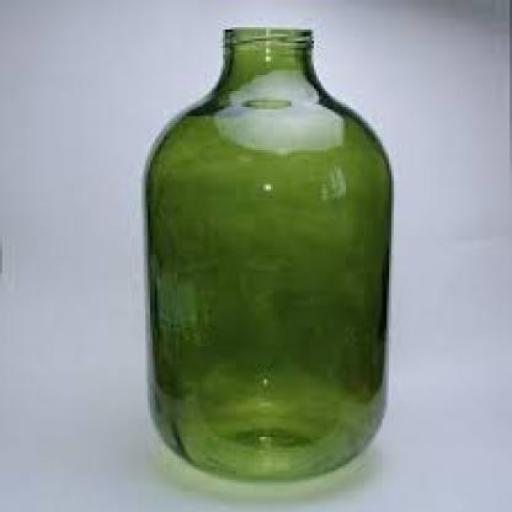glass: (141, 27, 393, 478)
